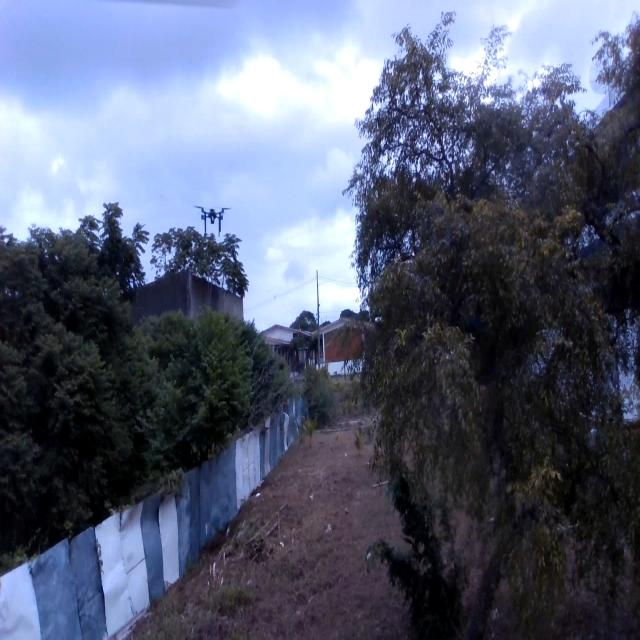-uav-: (189, 197, 232, 243)
